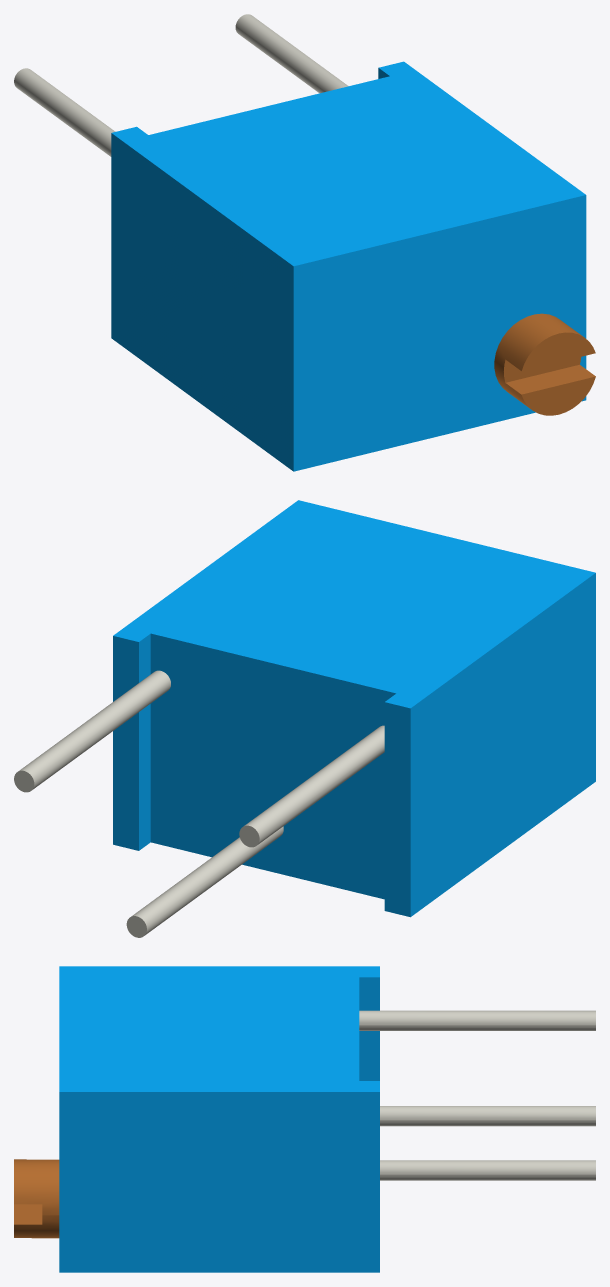
The model's file is Potentiometer_Bourns_3266W_Vertical.glb.
The picture shows the model from 3 angles, top to bottom: view 1: azimuth 30°, elevation 25°; view 2: azimuth 150°, elevation 25°; view 3: azimuth 270°, elevation 25°; orthographic projection. The views are drawn at different scales.
Visible parts, largest first — view 1: Potentiometer_Bourns_3266W_Vertical; view 2: Potentiometer_Bourns_3266W_Vertical; view 3: Potentiometer_Bourns_3266W_Vertical.
Boxes of the visible parts, <box> form: Potentiometer_Bourns_3266W_Vertical: <box>14,14,595,471</box>; Potentiometer_Bourns_3266W_Vertical: <box>14,500,595,937</box>; Potentiometer_Bourns_3266W_Vertical: <box>14,966,595,1272</box>.
Bounding box in the file's own units: 6.71 × 4.5 × 13.14.
